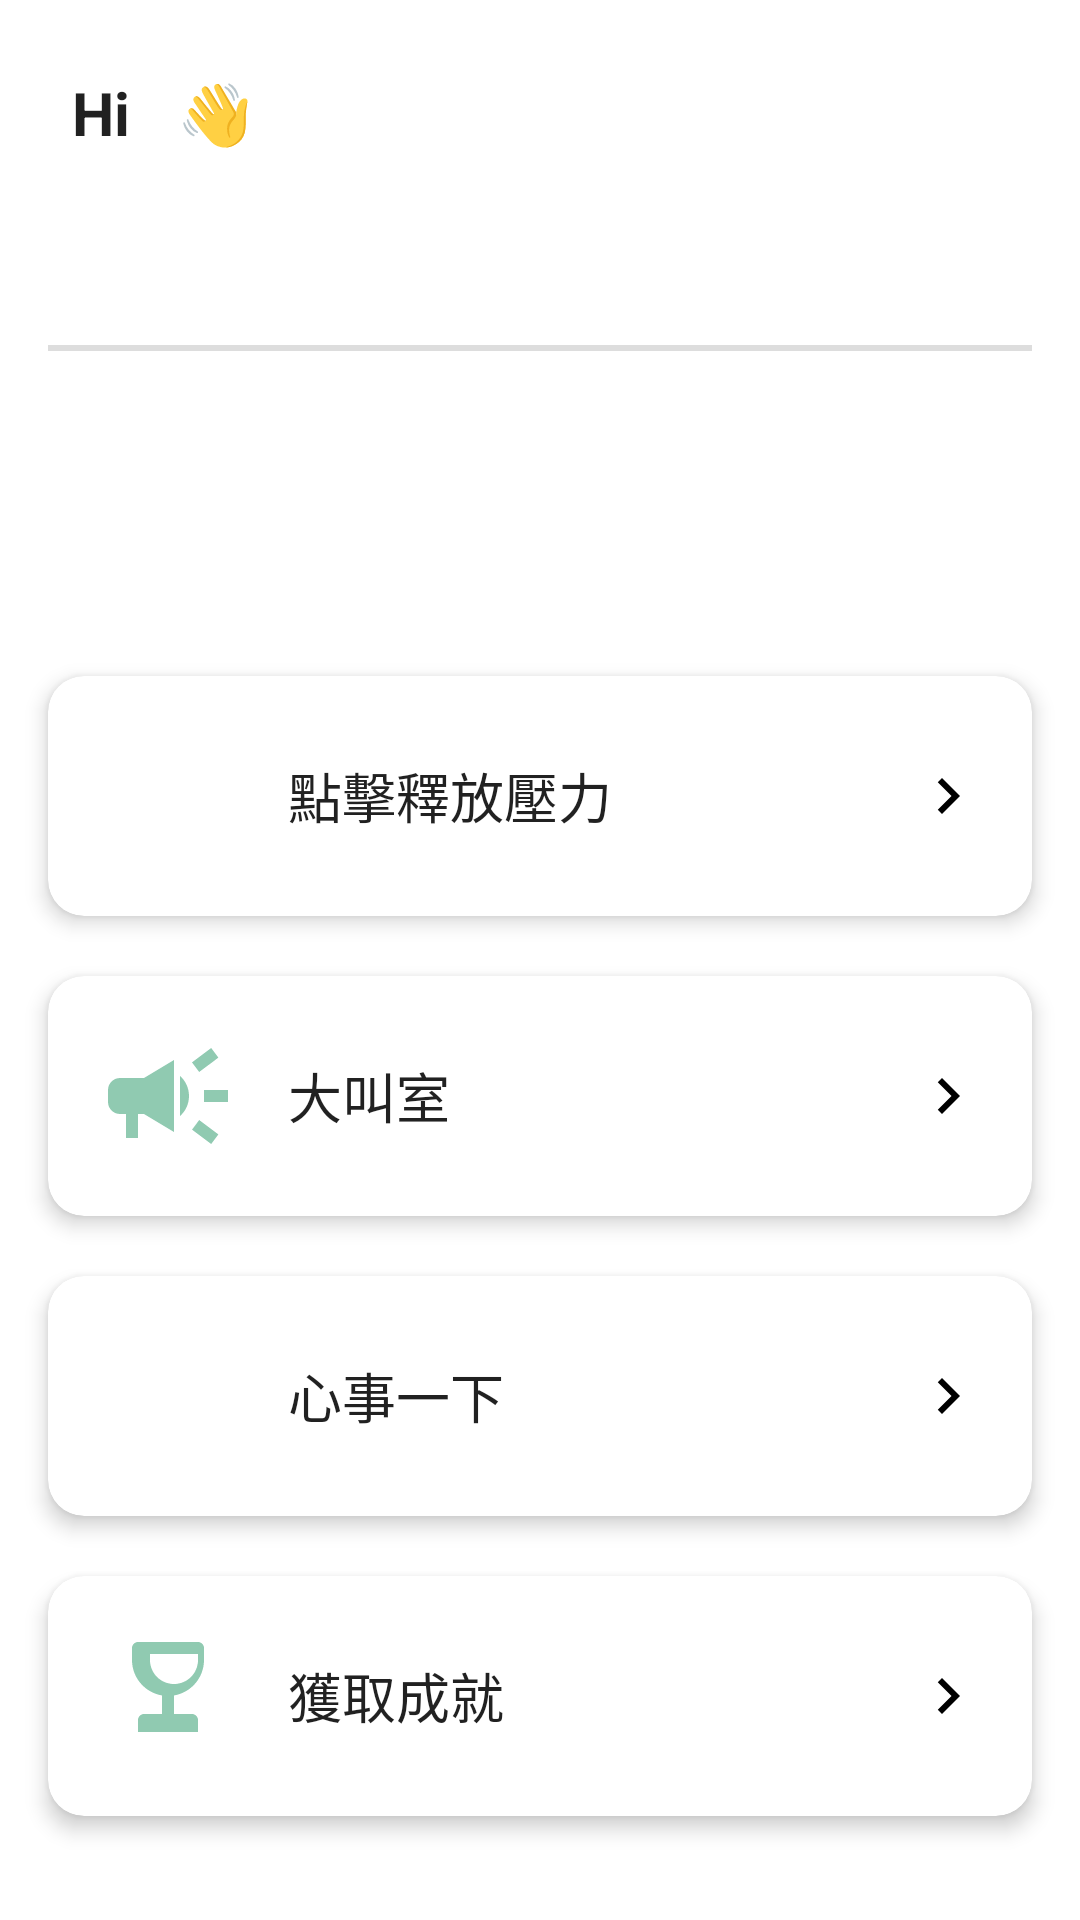

Named icons in this screenshot (1080x1920) and their bounding boxes, (x1, y1, x2, y2):
achievement: (132, 1642, 204, 1732)
campaign: (108, 1048, 228, 1144)
chevron right: (938, 778, 960, 814), (938, 1078, 960, 1114), (938, 1378, 960, 1414), (938, 1678, 960, 1714)
